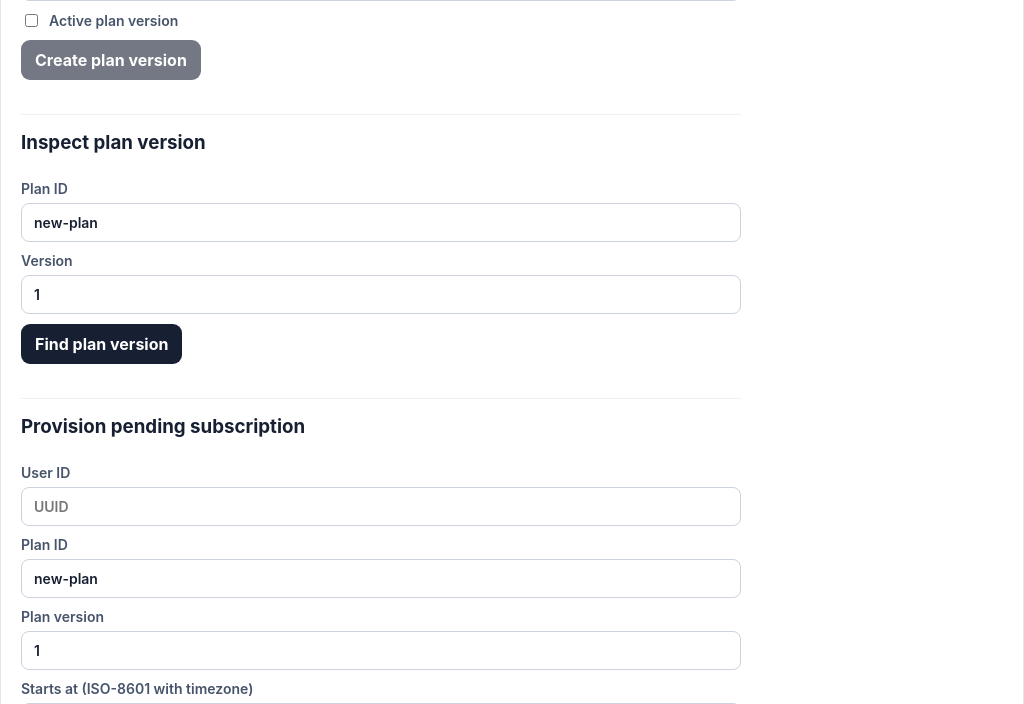
SubscriptionAdminPanel › reads an existing immutable plan version
(page scrolled)
Step 1. Click the button "Find plan version" → [102, 344], box left=21, top=324, right=182, bottom=364
(page scrolled)
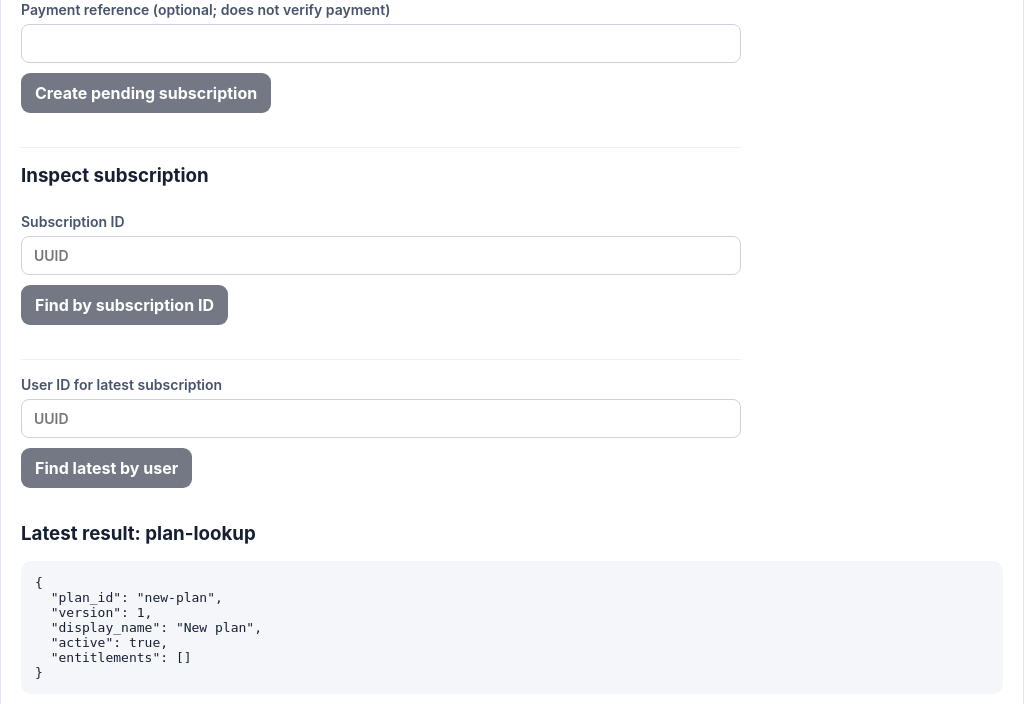
Result: the heading "Latest result: plan-lookup" is shown at left=21, top=522, right=256, bottom=545
